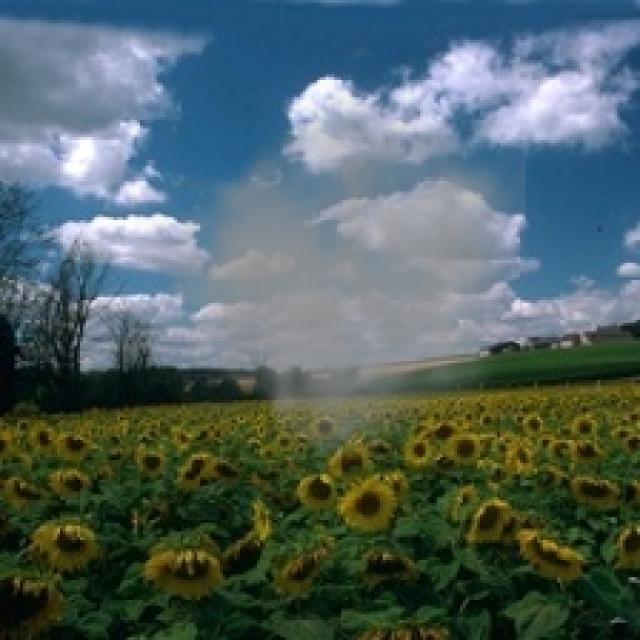smoke: (125, 72, 526, 474)
